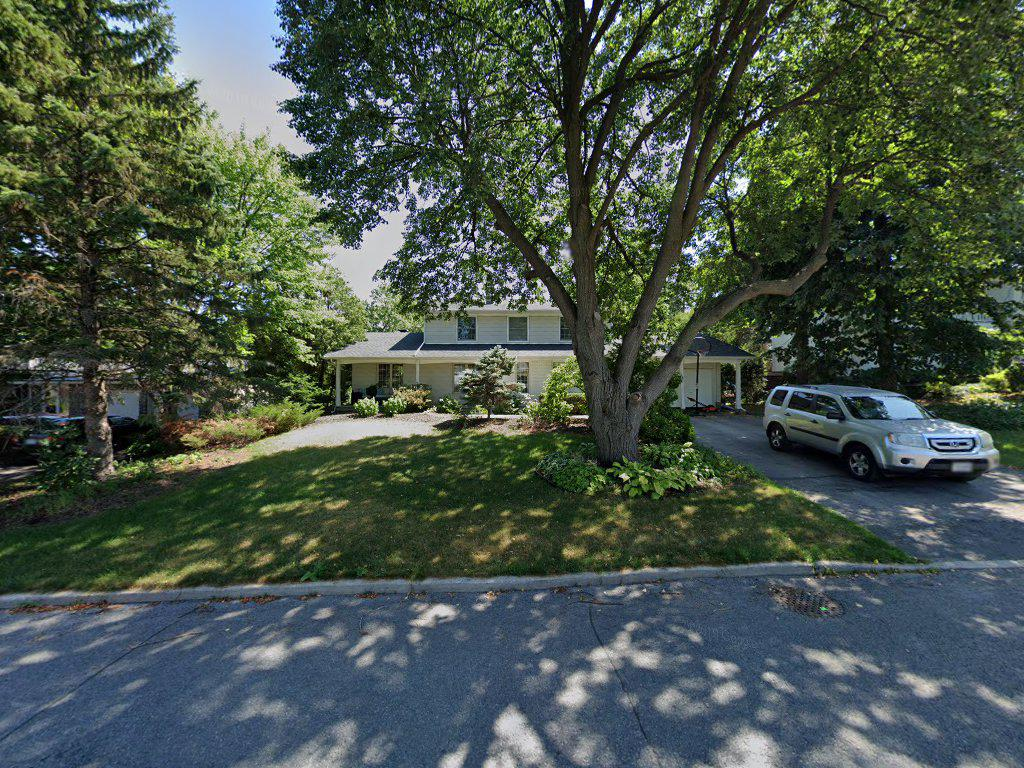trunk: (561, 298, 686, 486)
